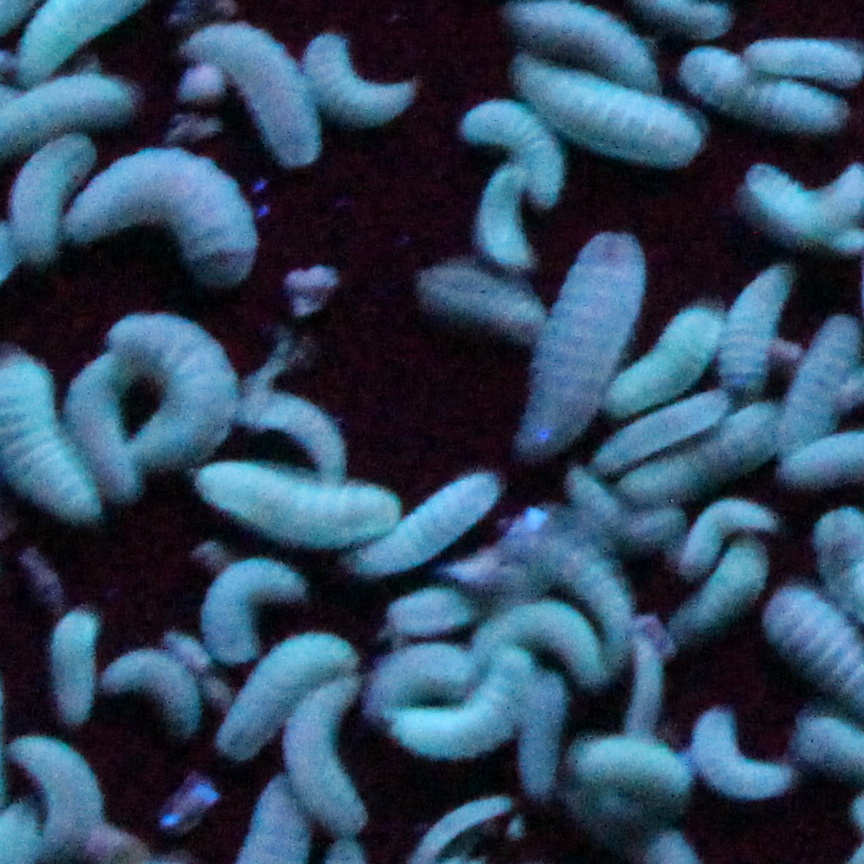larve: (83, 149, 248, 278), (535, 235, 639, 424), (544, 63, 697, 164), (120, 310, 223, 452), (200, 29, 316, 150), (230, 628, 344, 733), (209, 470, 381, 535), (367, 484, 499, 568), (509, 1, 644, 78), (641, 417, 767, 498), (302, 680, 365, 833), (402, 670, 527, 747), (11, 735, 93, 852), (207, 556, 299, 659), (621, 308, 718, 405), (690, 52, 839, 115), (463, 91, 562, 185), (307, 28, 402, 117), (427, 257, 534, 335), (249, 394, 348, 475), (553, 524, 623, 638), (597, 396, 713, 463), (702, 712, 793, 792), (106, 656, 197, 731), (18, 133, 70, 264), (795, 319, 853, 431), (81, 350, 128, 485), (728, 266, 779, 389), (479, 168, 542, 266), (483, 608, 600, 657), (688, 547, 758, 626), (413, 803, 499, 861), (579, 736, 678, 784), (572, 477, 663, 528), (686, 505, 756, 568), (374, 654, 458, 703), (56, 608, 93, 715), (527, 675, 558, 789), (399, 594, 476, 628), (634, 628, 658, 736)
